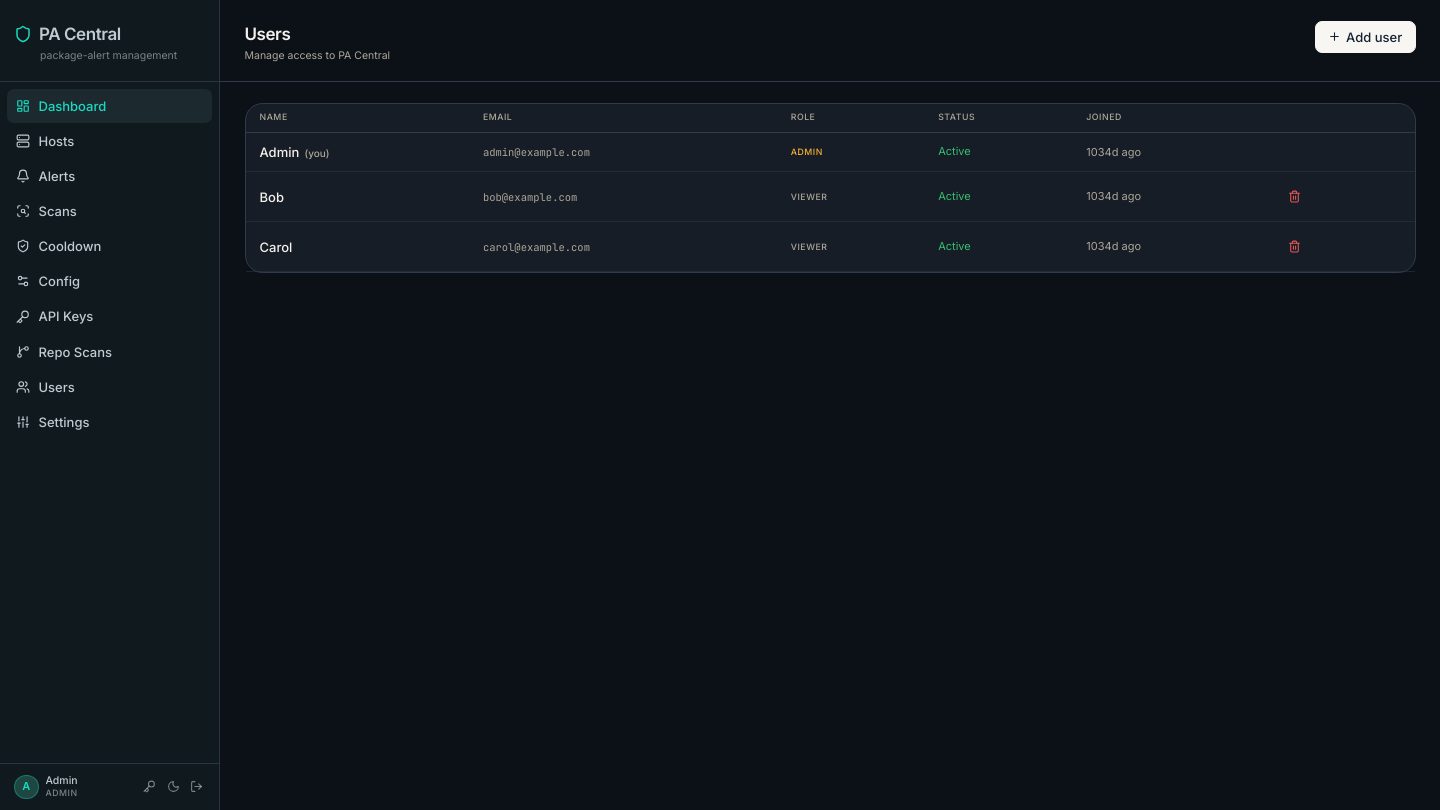
Test: Users page — delete flow › deleting a different user leaves another row's edit panel open
Click the text "Bob" at (272, 197), box [246,172,469,222]
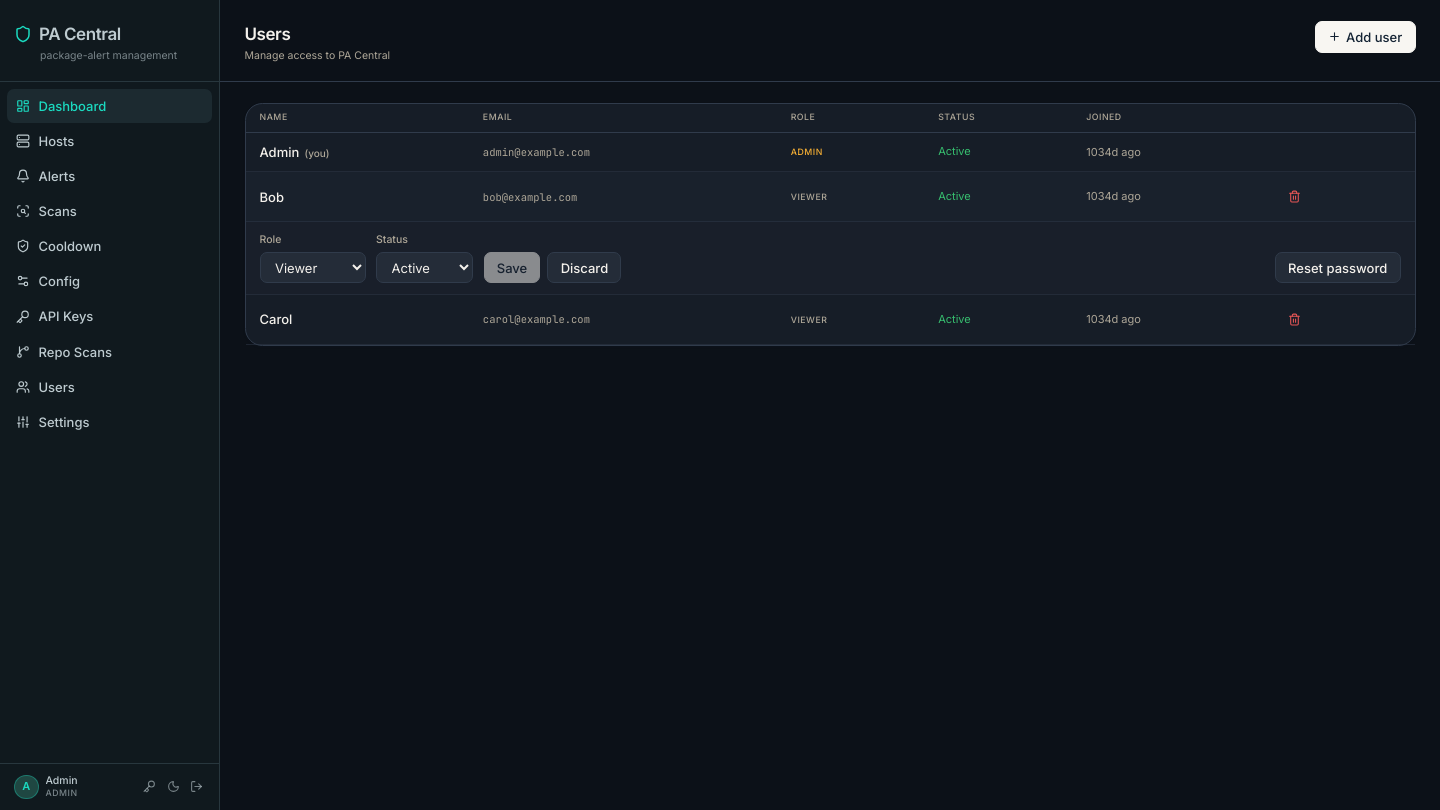
Select "Operator" in the dropdown labelled "Role" at (312, 268), box [260,252,366,283]
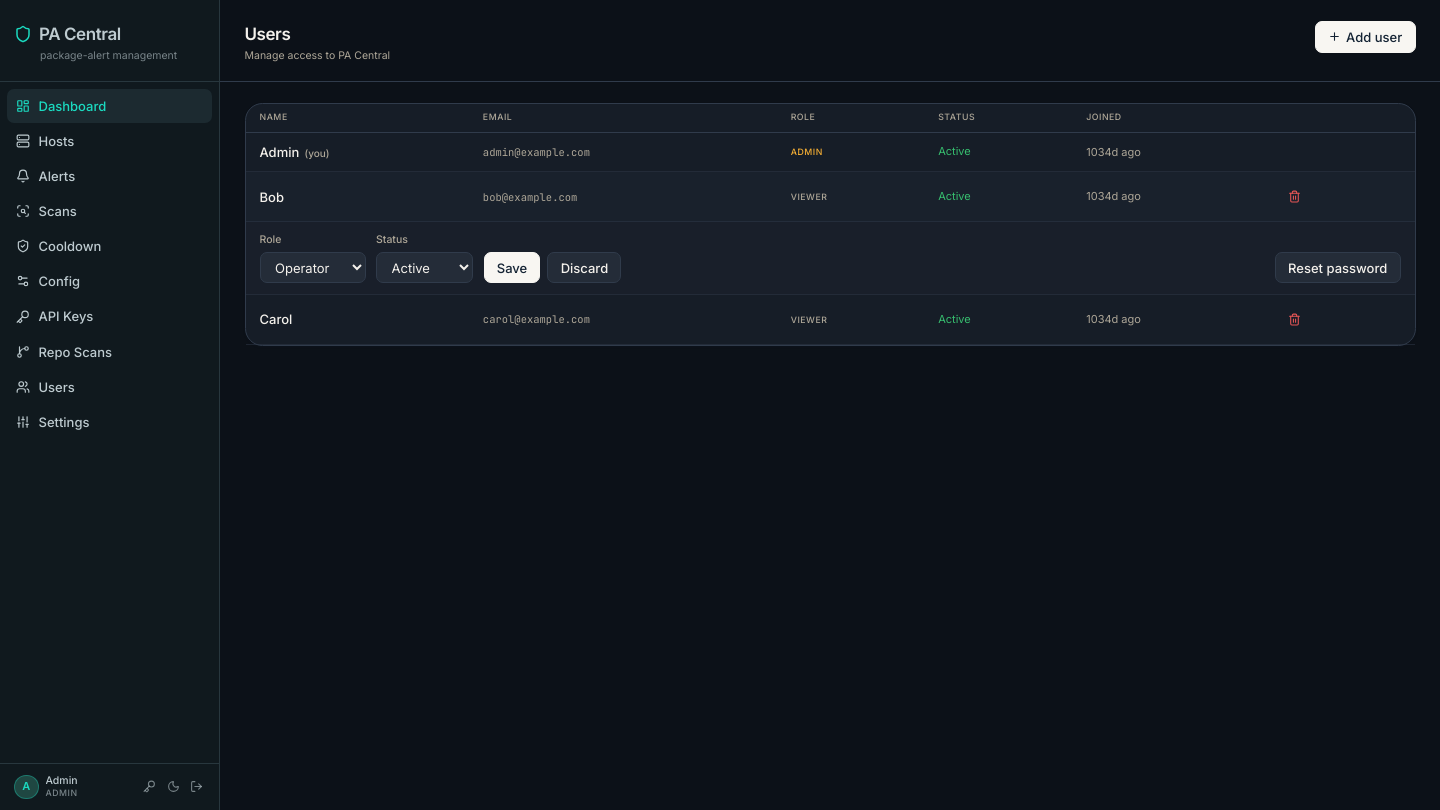
Click the button named "delete carol" at (1294, 319), box [1274,304,1314,335]
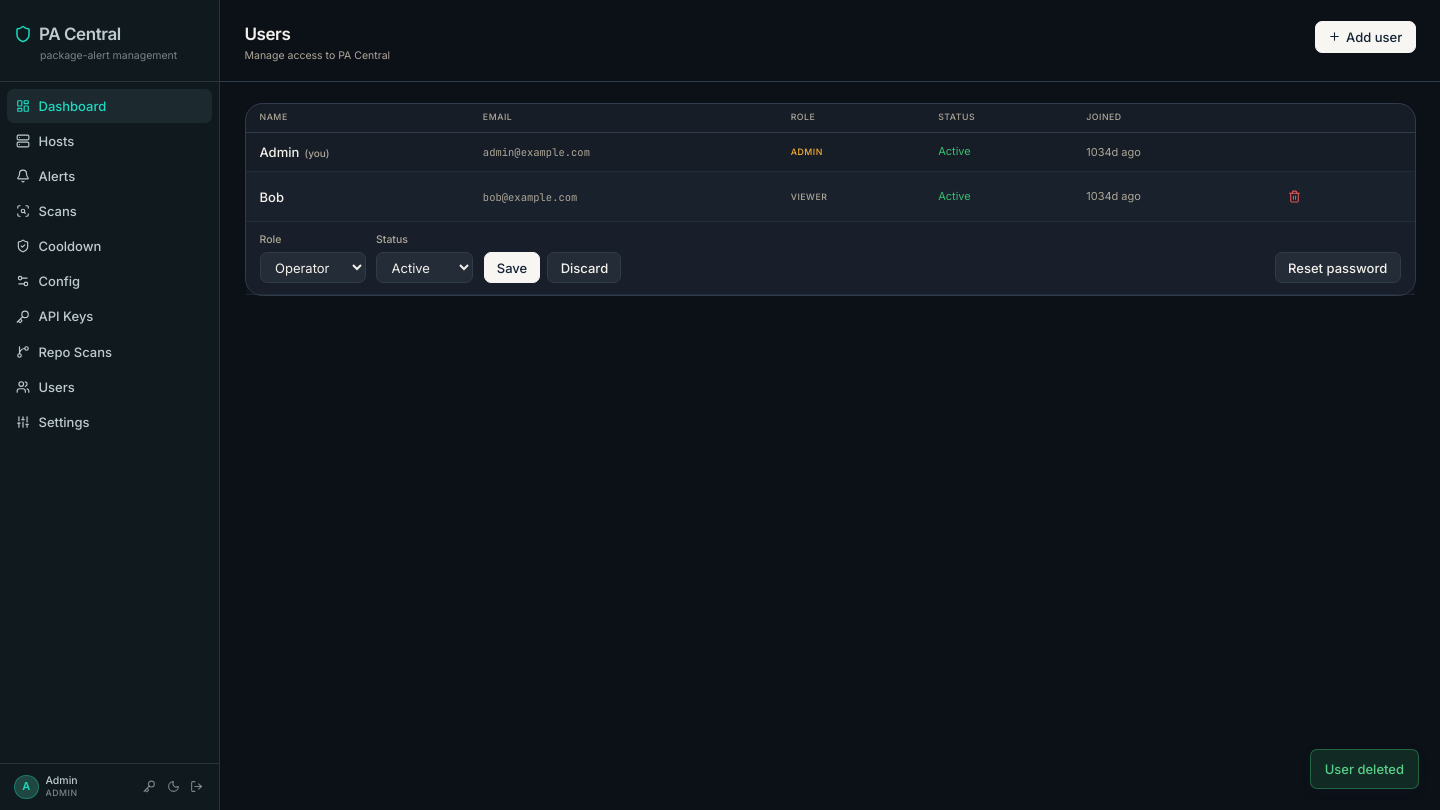
Expected: the button "Discard" is shown, [548,252,622,283]
Expected: the text "User deleted" is shown, [1310,749,1419,789]
Expected: the text "Carol" is gone
